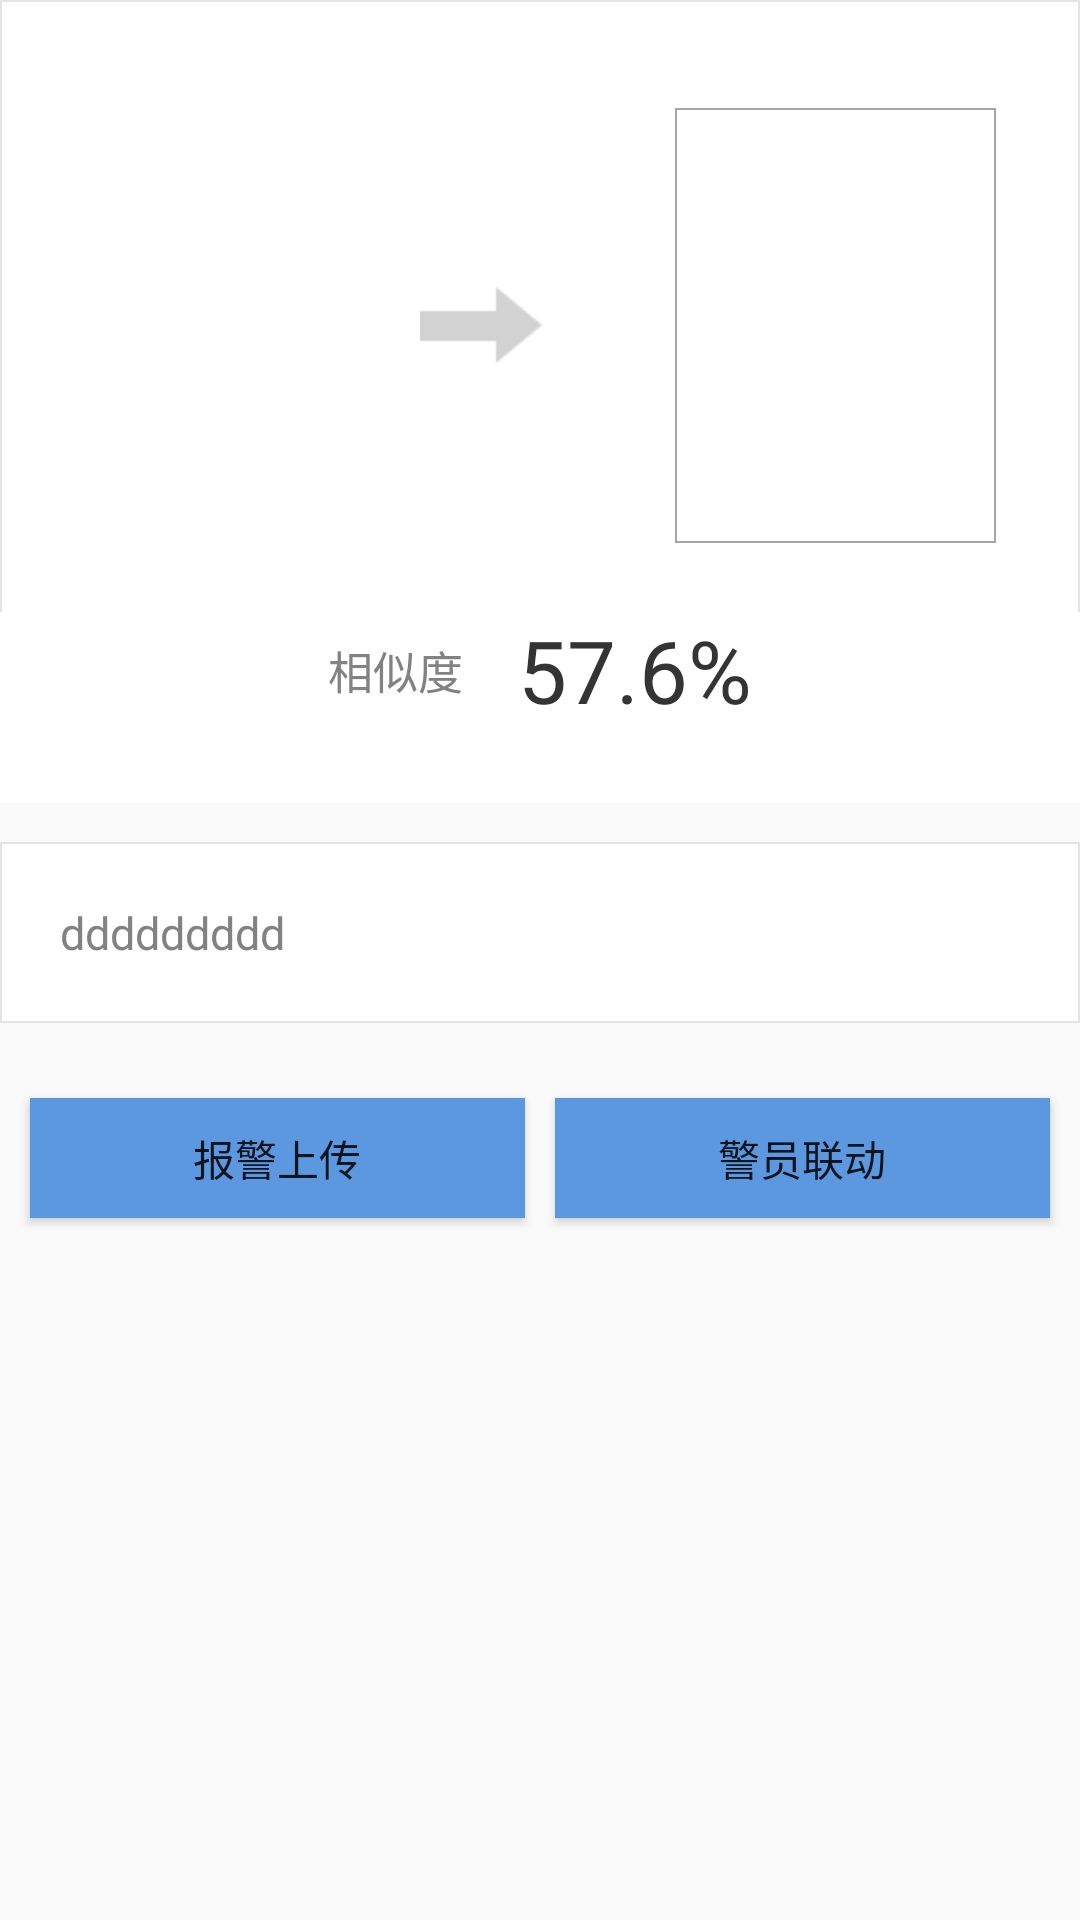

Icon click points for this 1080px x 1920px phone screenshot, format [x,y]:
result arrow: [480,325]
